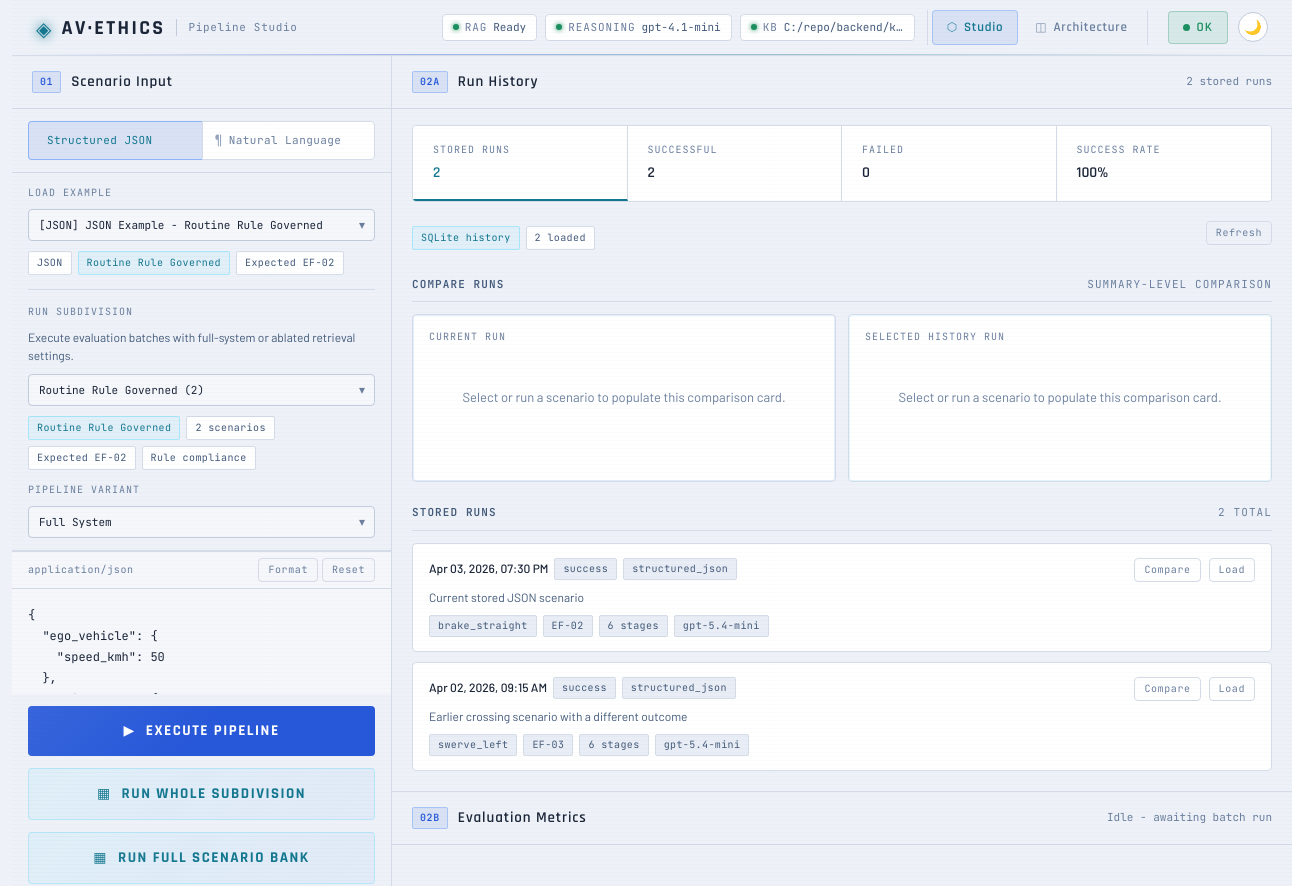
App › replays stages in order after the backend response arrives
Click the button with aria-label "Run Scenario". click: {"x": 202, "y": 731}
box: [28,706,375,756]
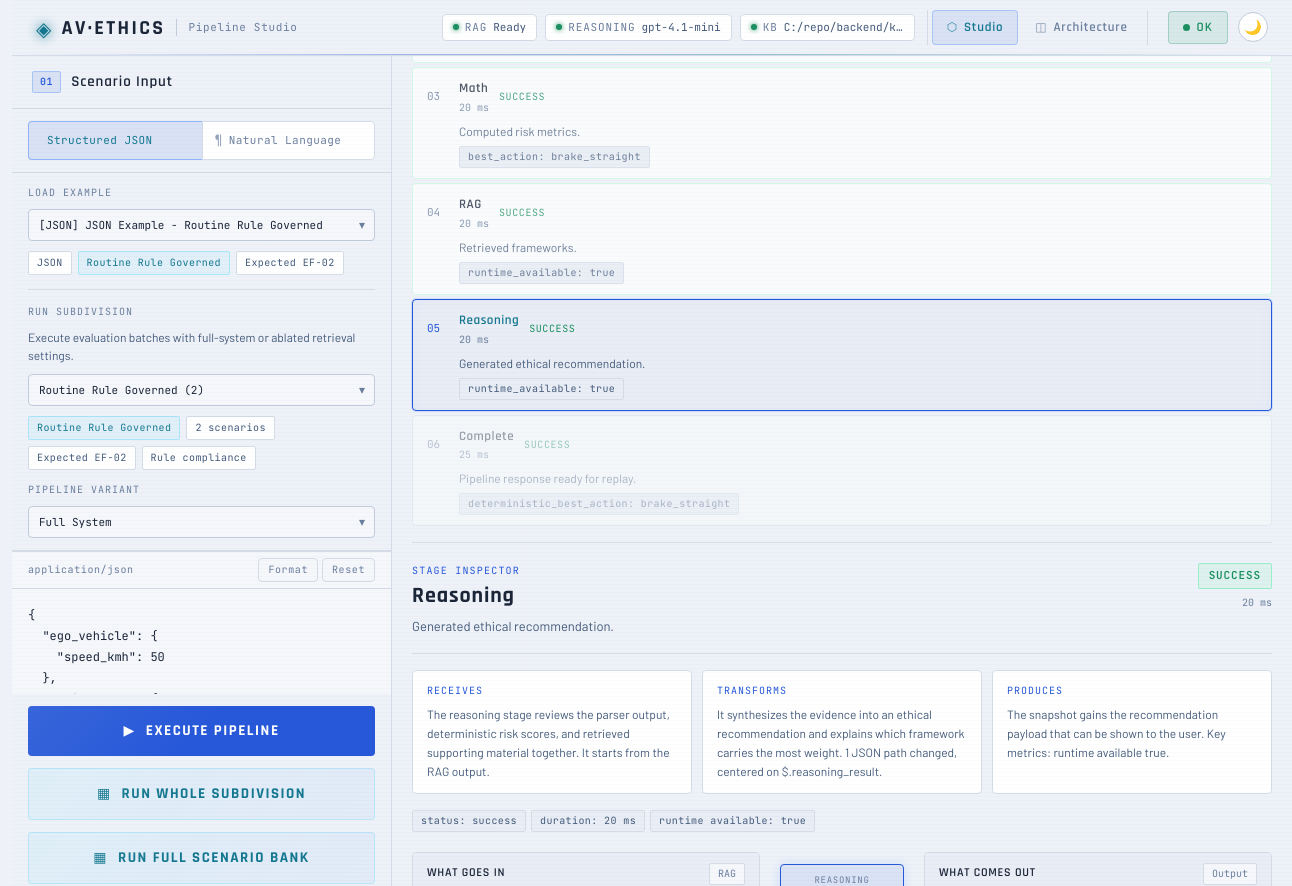
Expected: the text "Pipeline response ready for replay." is shown, [459,471,636,485]
